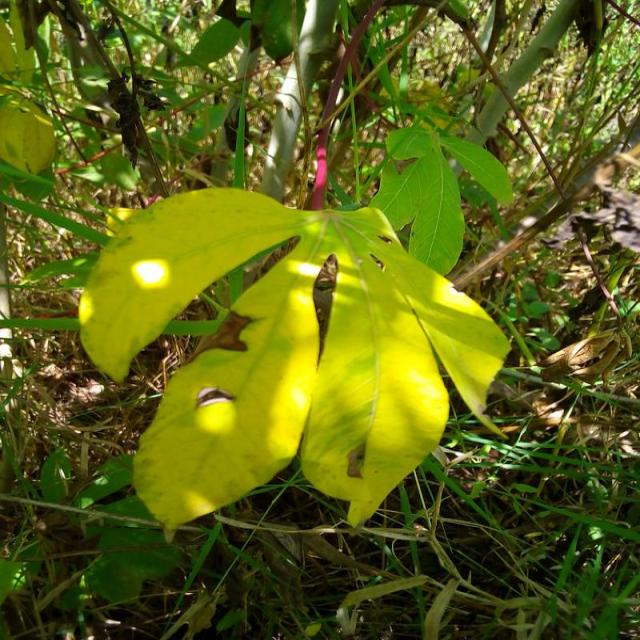cassava leaf: (78, 183, 512, 534)
